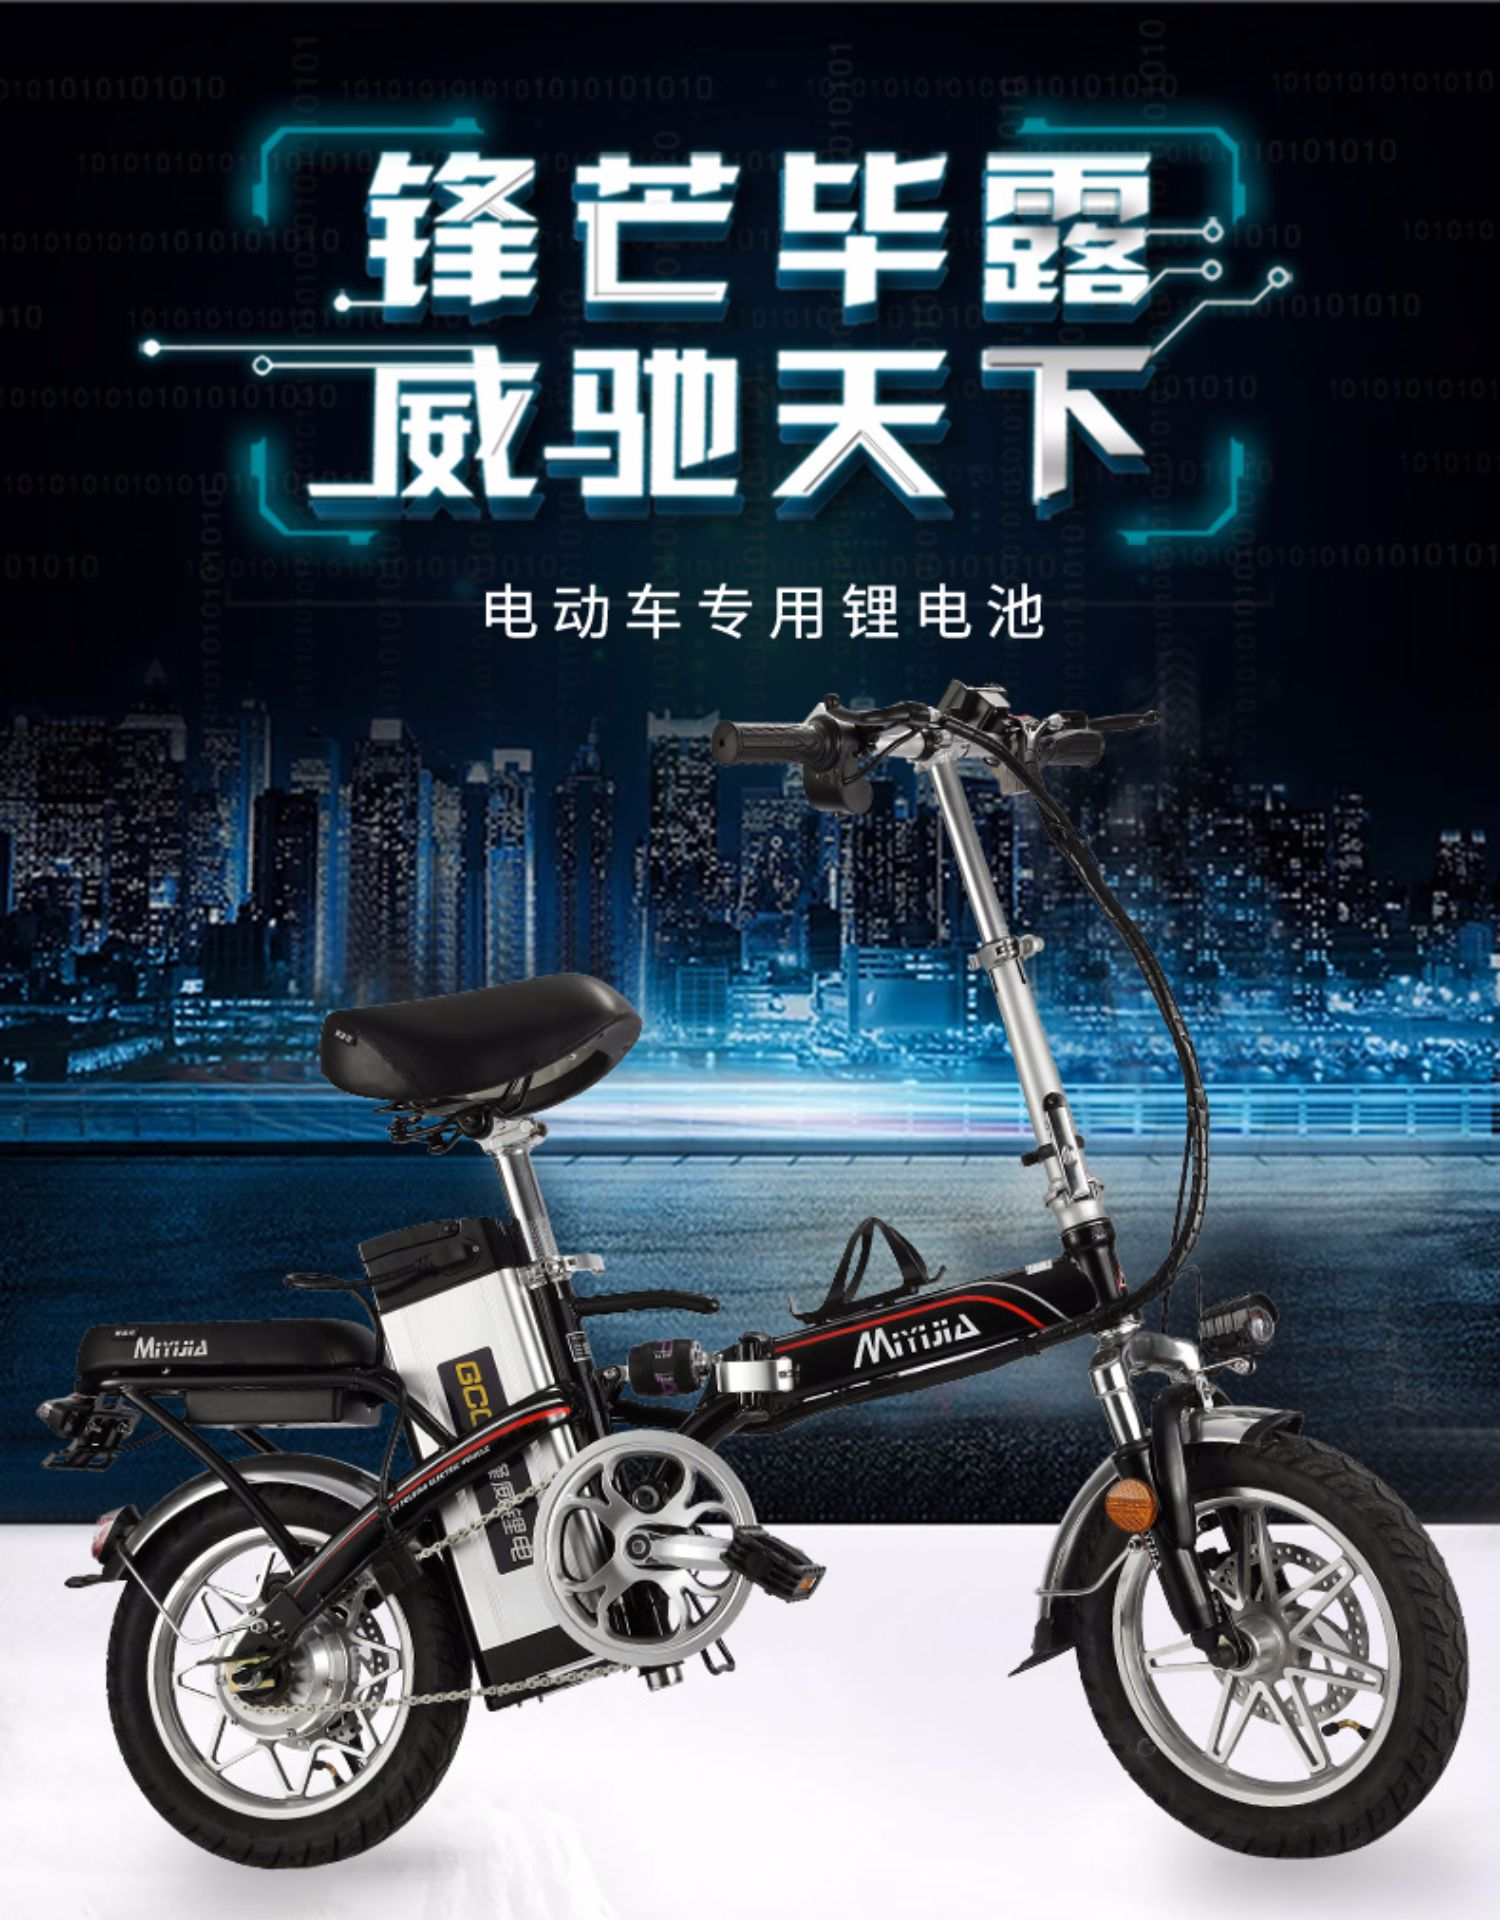电动车: (2, 653, 1491, 1872)
